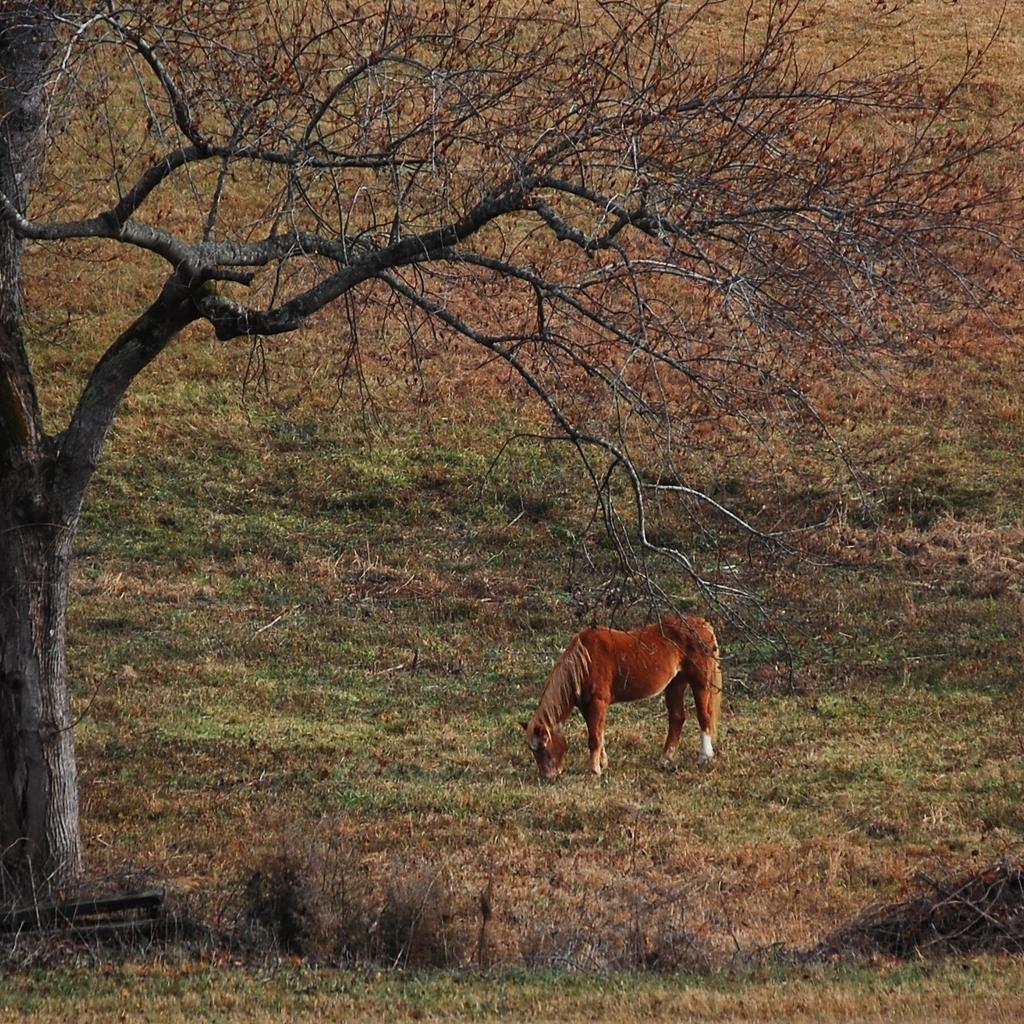horse: (521, 608, 724, 787)
